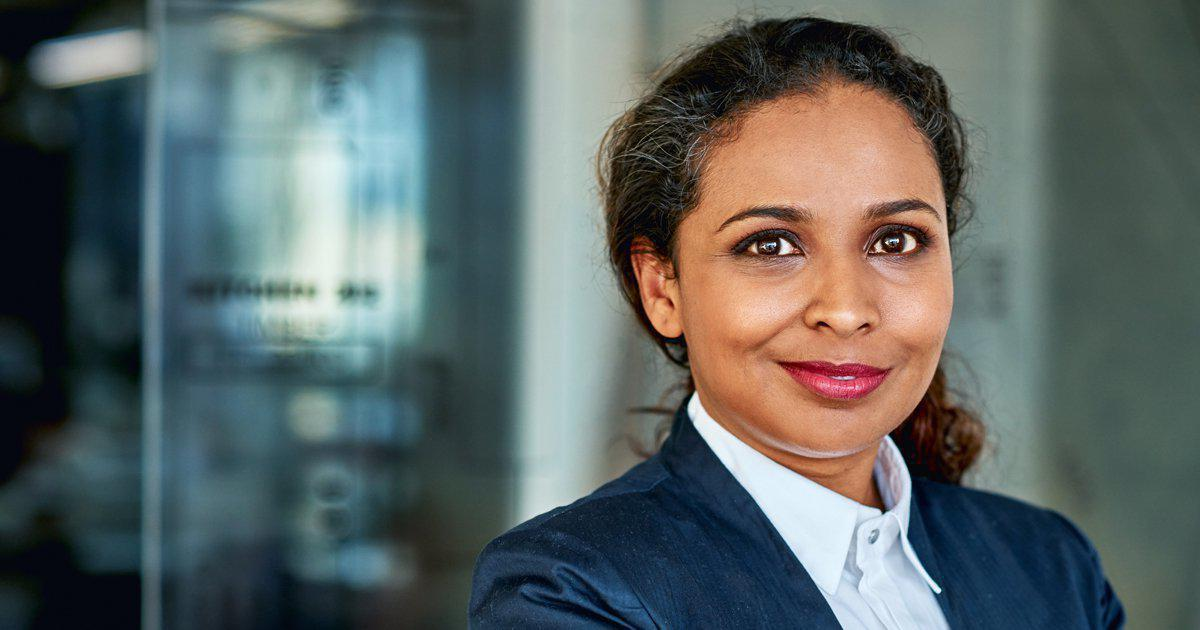Sober: (711, 120, 953, 435)
